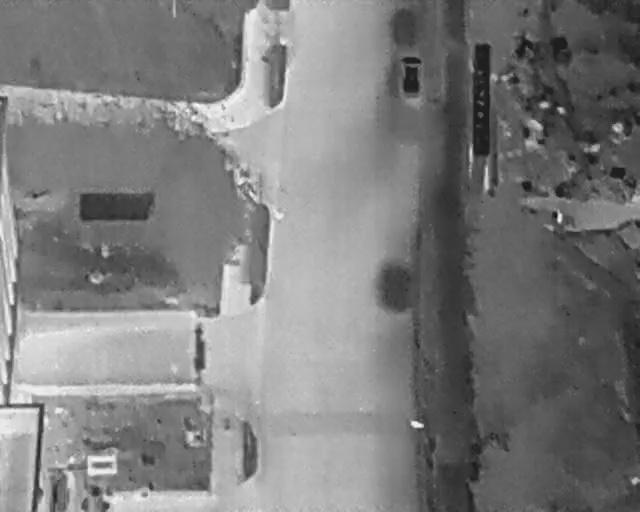Car: (400, 55, 423, 99)
